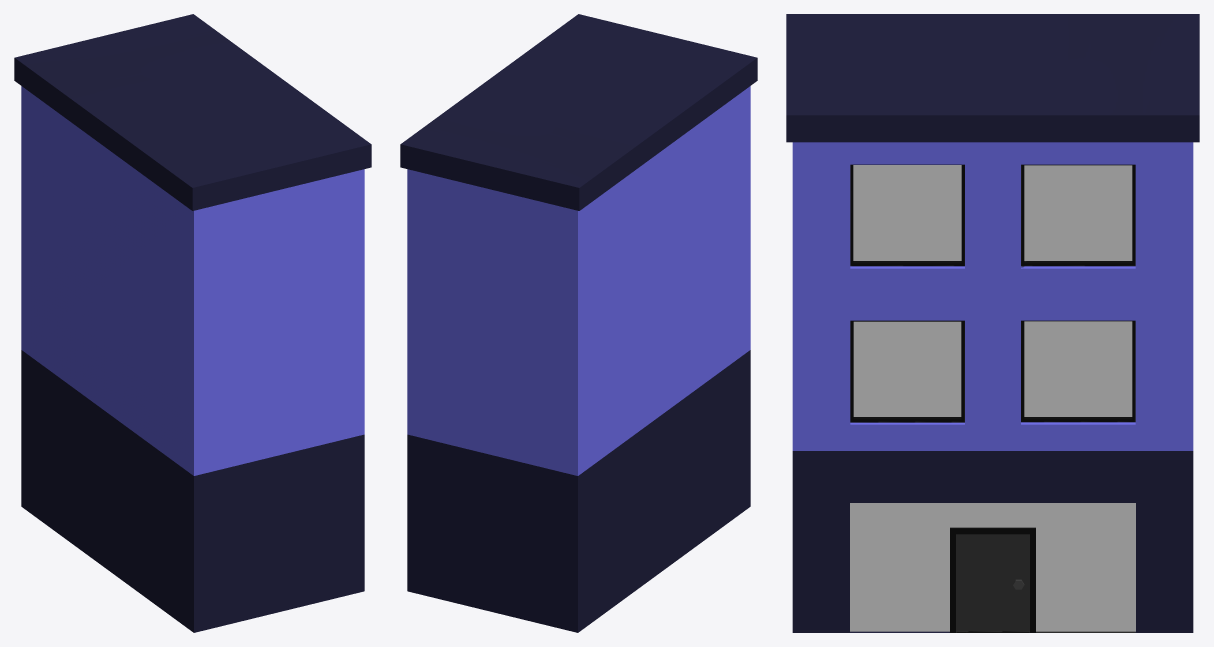
The model's file is model-scenario-static-level0-building-2.fbx.
3 views of the same model, side by side, from view 1: azimuth 30°, elevation 25°; view 2: azimuth 150°, elevation 25°; view 3: azimuth 270°, elevation 25° (orthographic). The views are drawn at different scales.
Visible parts, largest first — view 1: mesh; view 2: mesh; view 3: mesh.
Boxes of the visible parts, x1=… form: mesh: x1=14, y1=14, x2=371, y2=632; mesh: x1=400, y1=14, x2=757, y2=632; mesh: x1=786, y1=14, x2=1199, y2=632.
Bounding box in the file's own units: 14.42 × 8.37 × 20.02.
Materials: 3 (2 with a texture image).
